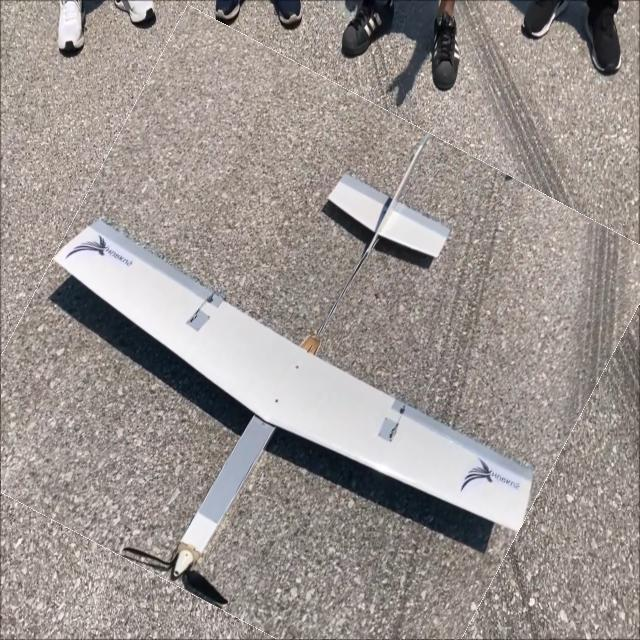Airplane: (43, 217, 551, 626), (310, 123, 460, 274)
